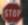Stop sign: (0, 0, 27, 24)
